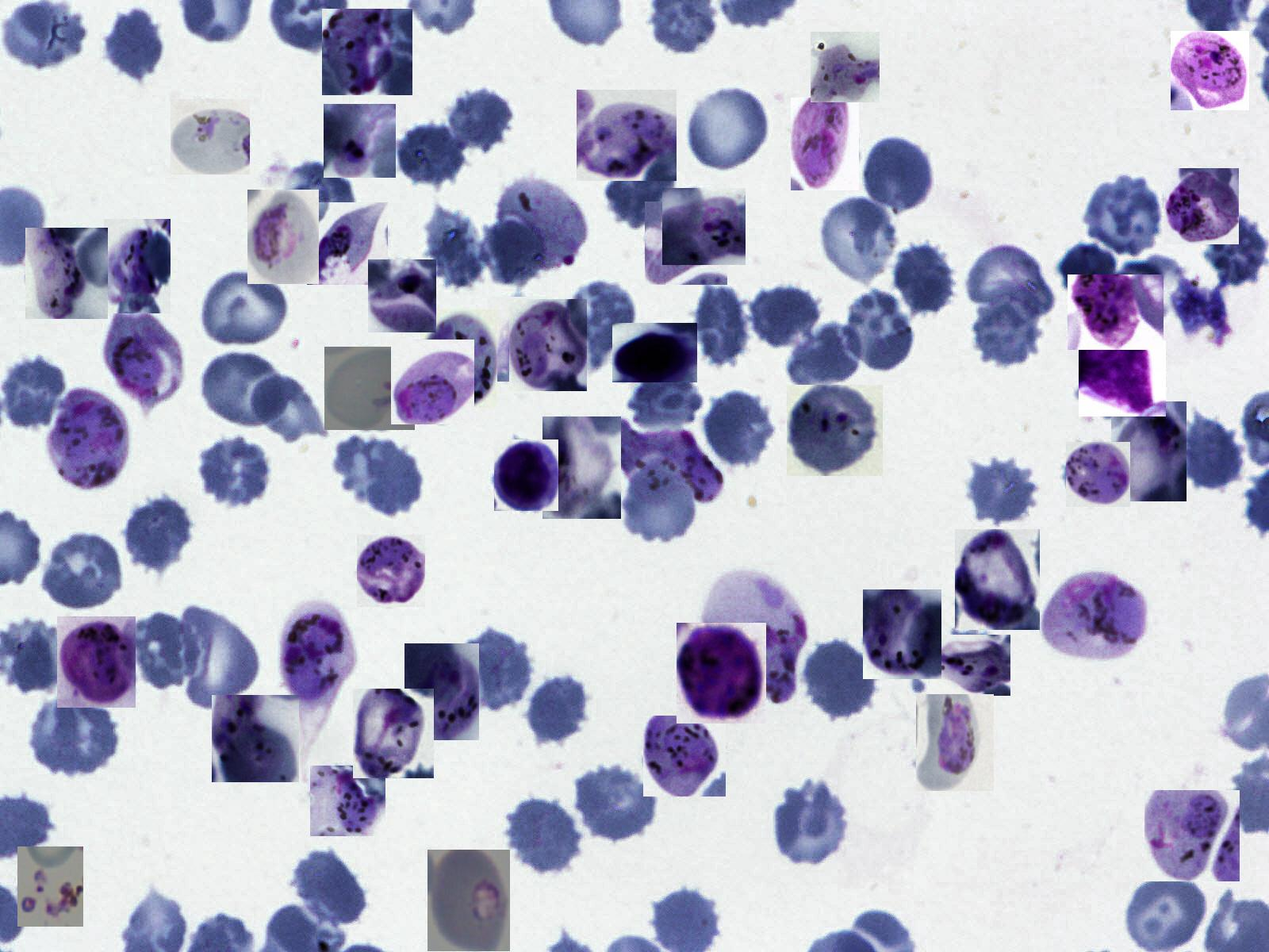Infected: (700, 563, 810, 706), (275, 601, 356, 750), (602, 415, 727, 510), (489, 177, 588, 274), (1045, 574, 1149, 664), (577, 90, 677, 181), (677, 623, 766, 724), (44, 390, 131, 493), (1144, 790, 1240, 881), (787, 385, 883, 476), (955, 529, 1040, 630), (102, 309, 186, 409), (427, 850, 510, 951), (542, 416, 621, 519), (322, 9, 412, 95), (1111, 401, 1187, 501), (212, 695, 299, 782), (916, 694, 994, 791), (25, 228, 108, 319), (324, 347, 415, 430), (421, 309, 497, 408), (1068, 274, 1164, 350), (404, 643, 479, 740), (57, 616, 136, 708), (353, 689, 434, 778), (509, 299, 587, 391), (863, 589, 941, 679), (391, 340, 474, 424), (645, 202, 727, 285), (247, 190, 319, 284), (643, 716, 726, 797), (308, 202, 389, 285), (1079, 340, 1166, 416), (662, 188, 746, 265), (791, 98, 859, 191), (104, 219, 171, 313), (1171, 31, 1249, 110), (171, 99, 250, 175), (1164, 168, 1239, 244), (17, 846, 83, 927), (324, 104, 396, 178), (488, 298, 551, 382), (310, 766, 385, 836), (612, 323, 697, 382), (368, 259, 436, 332), (930, 635, 1010, 696), (811, 32, 880, 102), (358, 535, 425, 607), (494, 440, 558, 511), (1066, 442, 1130, 507)
Uninfected: (178, 605, 260, 712), (816, 193, 901, 286), (622, 451, 704, 547), (685, 84, 773, 173), (334, 429, 424, 516), (29, 695, 121, 778), (198, 267, 291, 348), (562, 275, 638, 373), (772, 777, 852, 870), (197, 346, 290, 426), (276, 163, 355, 255), (967, 246, 1055, 327), (845, 286, 921, 377), (1082, 175, 1167, 255), (41, 531, 125, 611), (573, 764, 658, 843), (459, 624, 534, 713), (801, 637, 878, 723), (1125, 874, 1210, 951), (504, 794, 582, 876), (701, 388, 779, 470), (292, 849, 369, 931), (247, 374, 332, 447), (194, 436, 270, 513), (970, 286, 1044, 365), (120, 493, 191, 574), (423, 203, 489, 290), (867, 134, 936, 217), (689, 283, 753, 371), (789, 320, 870, 389), (966, 450, 1039, 526), (1175, 413, 1246, 491), (130, 611, 200, 689), (393, 119, 467, 192), (601, 157, 675, 230), (524, 670, 592, 747), (1202, 212, 1269, 290), (447, 85, 516, 160), (893, 240, 959, 318), (750, 282, 823, 351), (1, 358, 67, 428), (103, 5, 163, 80), (629, 374, 704, 427)
